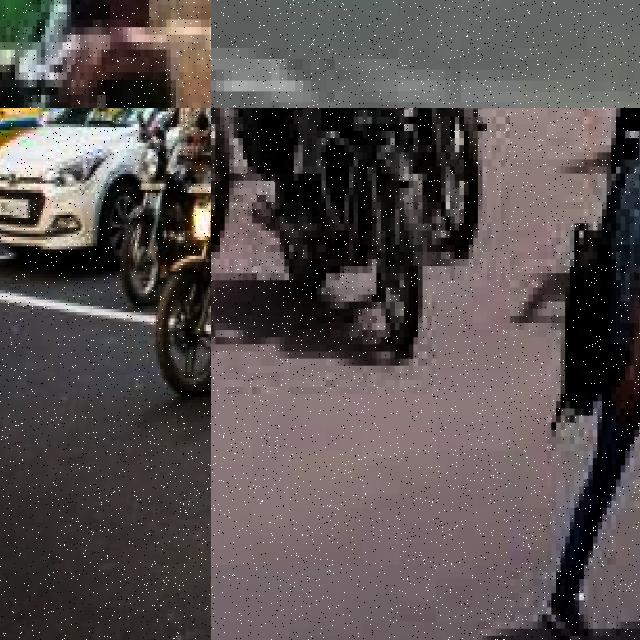bike: (243, 108, 455, 380), (0, 0, 211, 108), (390, 108, 519, 259), (149, 161, 211, 403), (120, 124, 200, 297), (583, 108, 640, 294), (211, 108, 266, 280)
